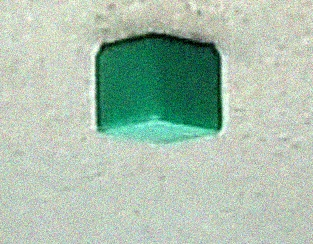green_cube: (85, 21, 235, 150)
